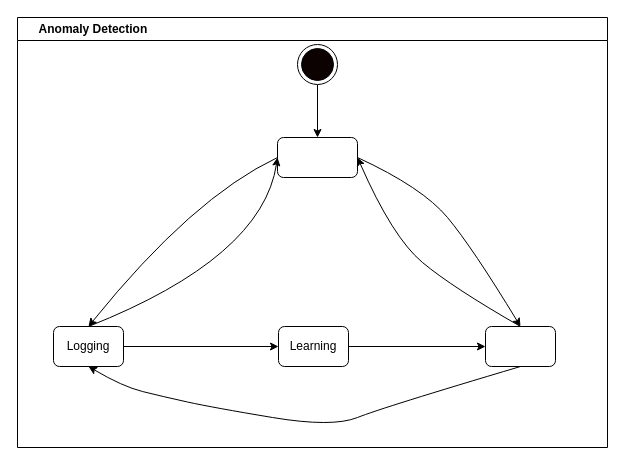
Image size: 625x465. Some labels were removed from this diagram. The centre of each missing label's shape, as x and y in pixels:
"Idle" goes at pixel 317 157.
"Inference" goes at pixel 520 346.
